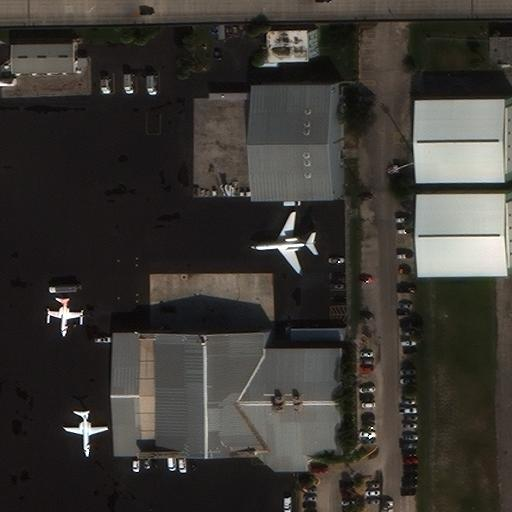Medium Civil Transport: (250, 210, 316, 274)
Small Civil Transport: (66, 410, 107, 457), (46, 297, 83, 338)
